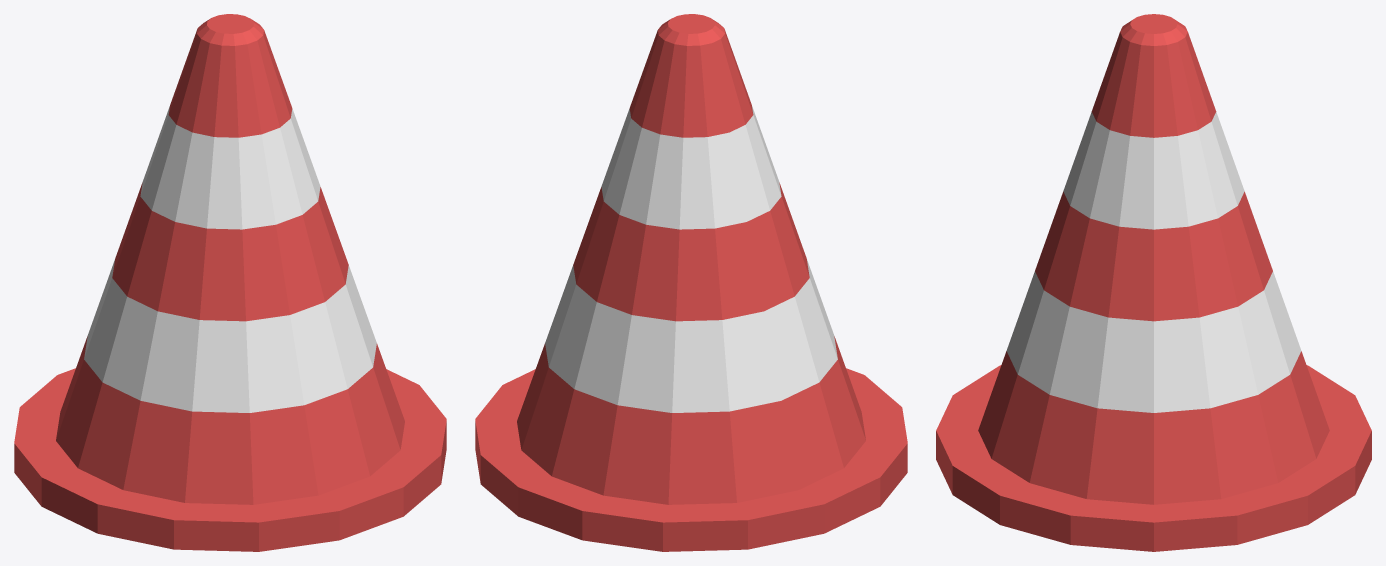
Rendered from Barrier 1.7.fbx.
The picture shows the model from 3 angles, left to right: view 1: azimuth 30°, elevation 25°; view 2: azimuth 150°, elevation 25°; view 3: azimuth 270°, elevation 25°; orthographic projection.
Parts seen in each view (by area): view 1: Barrier_2.001; view 2: Barrier_2.001; view 3: Barrier_2.001.
Part boxes in pixels (bbox=[...]): Barrier_2.001: bbox=[14, 14, 446, 551]; Barrier_2.001: bbox=[475, 14, 907, 551]; Barrier_2.001: bbox=[936, 14, 1371, 551].
Size of the model in its own units: 90.96 by 100 by 90.96.
